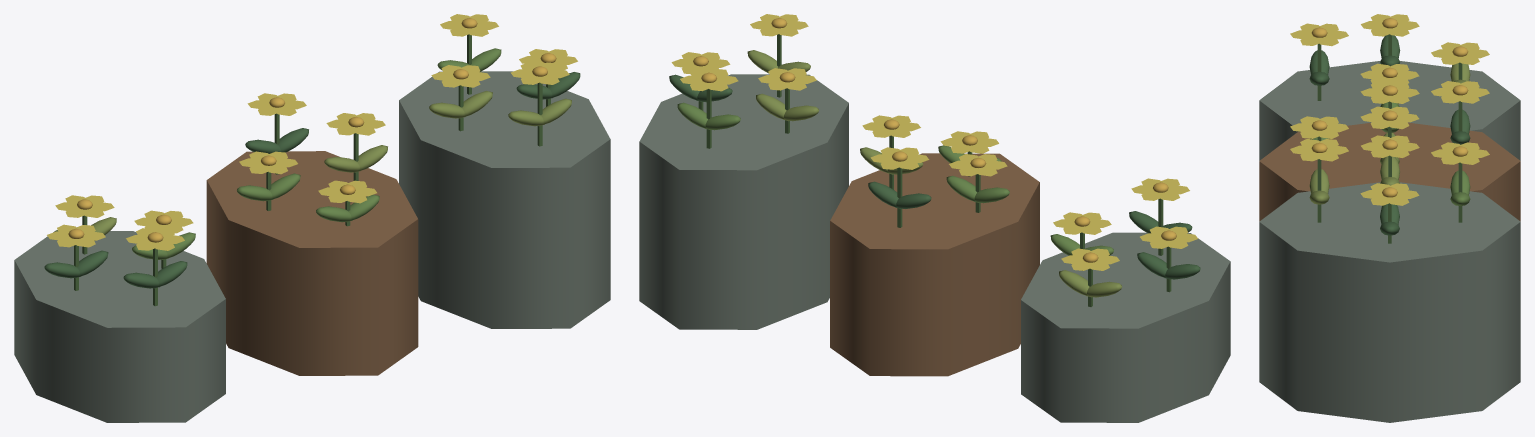
The picture shows the model from 3 angles, left to right: view 1: azimuth 30°, elevation 25°; view 2: azimuth 150°, elevation 25°; view 3: azimuth 270°, elevation 25°; orthographic projection.
Visible parts, largest first — view 1: climb-flowers-2-2, climb-flowers-2-1, climb-flowers-2-0, 화단 03; view 2: climb-flowers-2-2, climb-flowers-2-1, climb-flowers-2-0, 화단 03; view 3: climb-flowers-2-2, 화단 03, climb-flowers-2-1, climb-flowers-2-0.
Boxes of the visible parts, bbox=[...] form: climb-flowers-2-2: bbox=[399, 71, 610, 328]; climb-flowers-2-1: bbox=[206, 151, 418, 375]; climb-flowers-2-0: bbox=[14, 231, 225, 422]; 화단 03: bbox=[44, 14, 580, 306]; climb-flowers-2-2: bbox=[639, 74, 848, 329]; climb-flowers-2-1: bbox=[830, 153, 1039, 376]; climb-flowers-2-0: bbox=[1021, 232, 1230, 422]; 화단 03: bbox=[669, 14, 1200, 306]; climb-flowers-2-2: bbox=[1259, 182, 1520, 422]; 화단 03: bbox=[1290, 14, 1489, 243]; climb-flowers-2-1: bbox=[1259, 122, 1520, 221]; climb-flowers-2-0: bbox=[1259, 60, 1520, 160].
Bounding box in the file's own units: 3.16 × 1.31 × 1.3.
